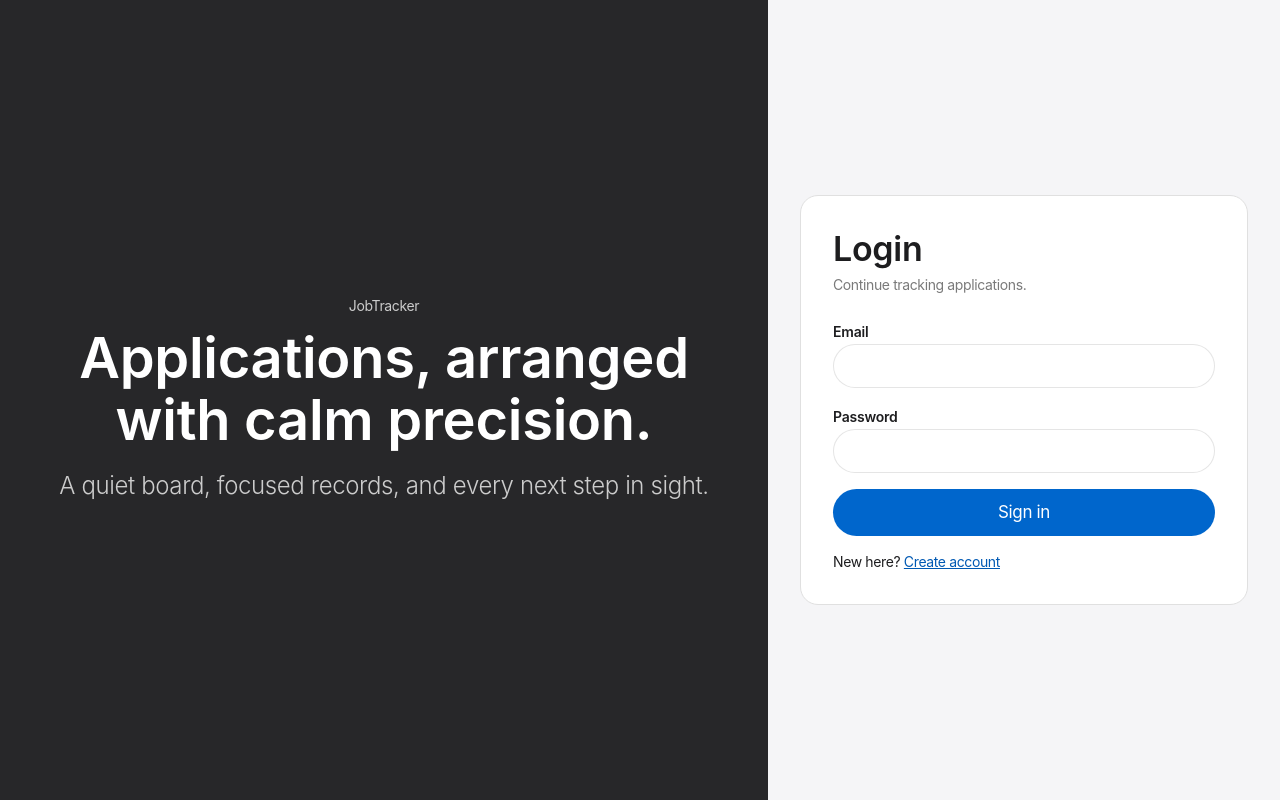
Test: login form › shows validation errors
The image size is (1280, 800).
What coordinates should you click on to do the following:
click the button "Sign in"
I would click on:
 (1024, 512)
Its box is [833,489,1215,536].
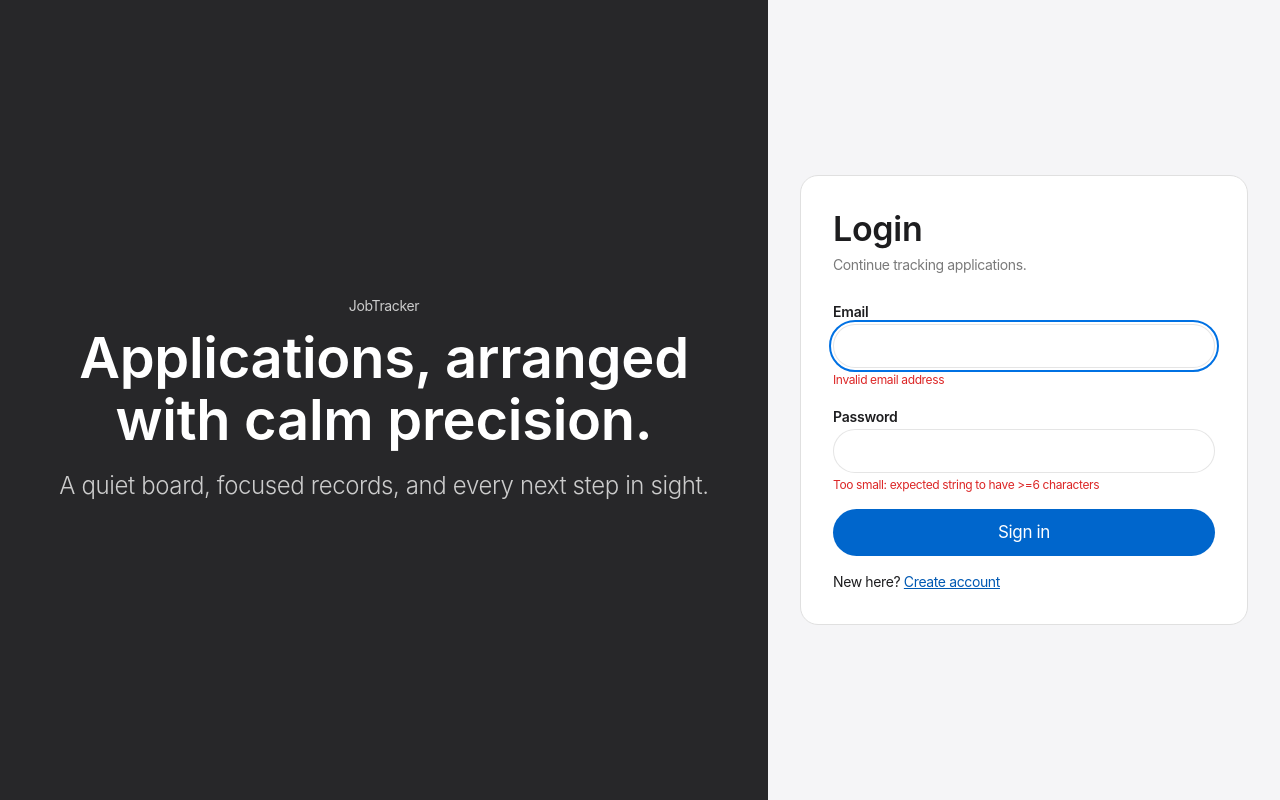
Now the text "Invalid email" is shown, box [833,372,944,387]
